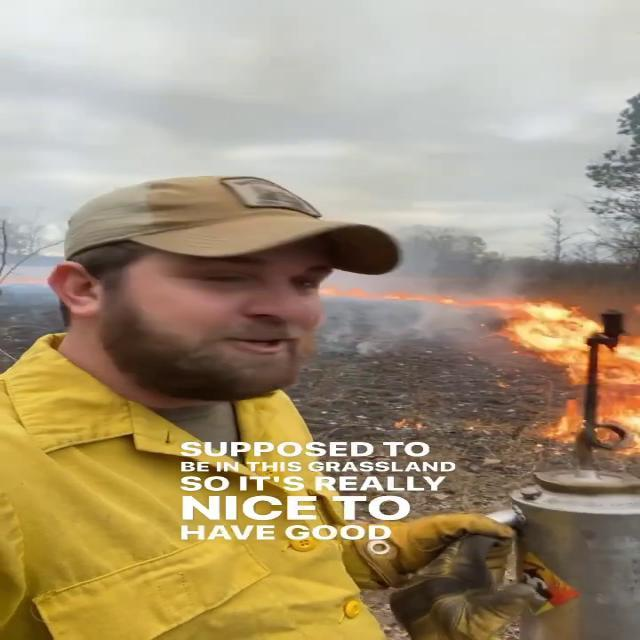Fire: (457, 291, 640, 454)
